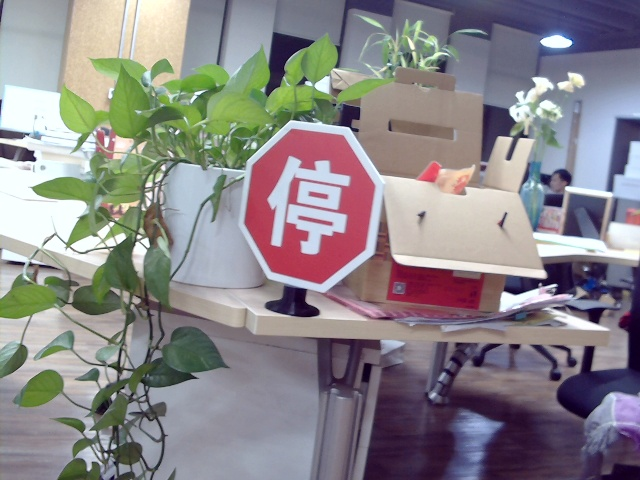stop: (265, 153, 348, 257)
